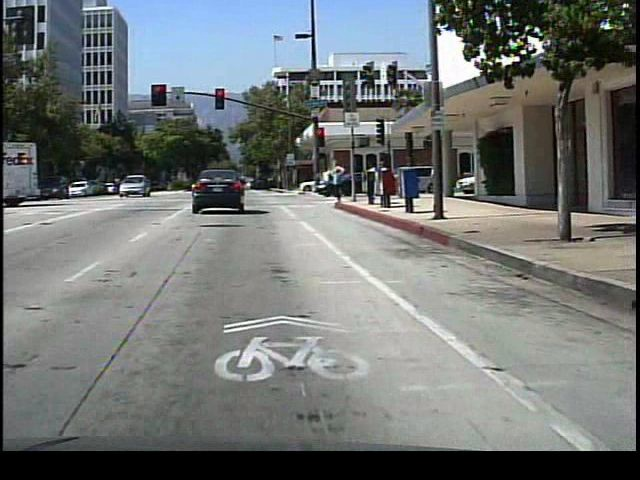person: (326, 152, 349, 207), (375, 156, 394, 200), (362, 158, 379, 198)
